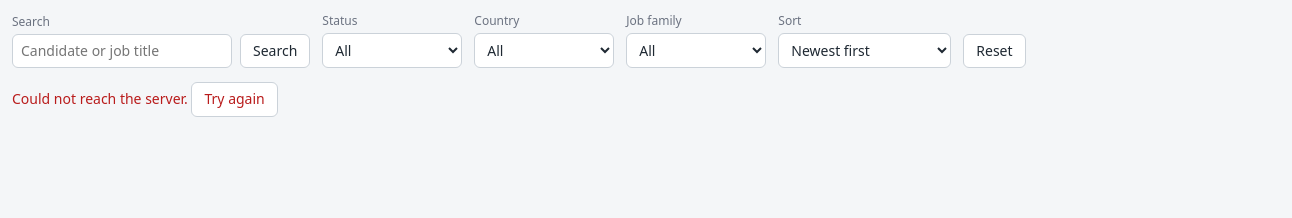
Test: recovers after a retry
Check: the message "Could not reach the server. Try again" is shown, box [12,82,278,117]
Click the button "Try again" at coordinates (235, 100), box [192,82,278,117]
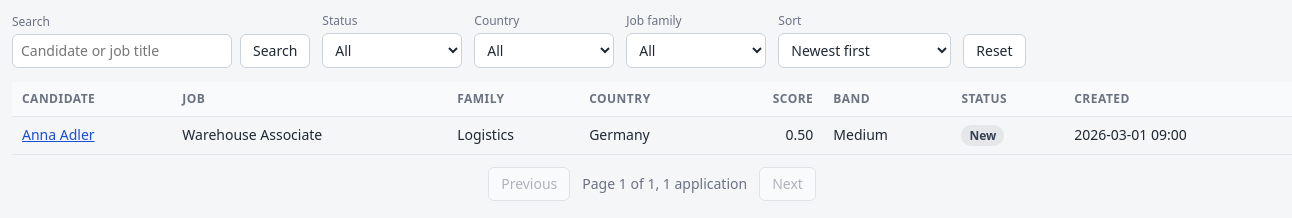
Check: the button "Anna Adler" is shown, box [22,125,95,145]
Check: the message "Could not reach the server. Try again" is gone
